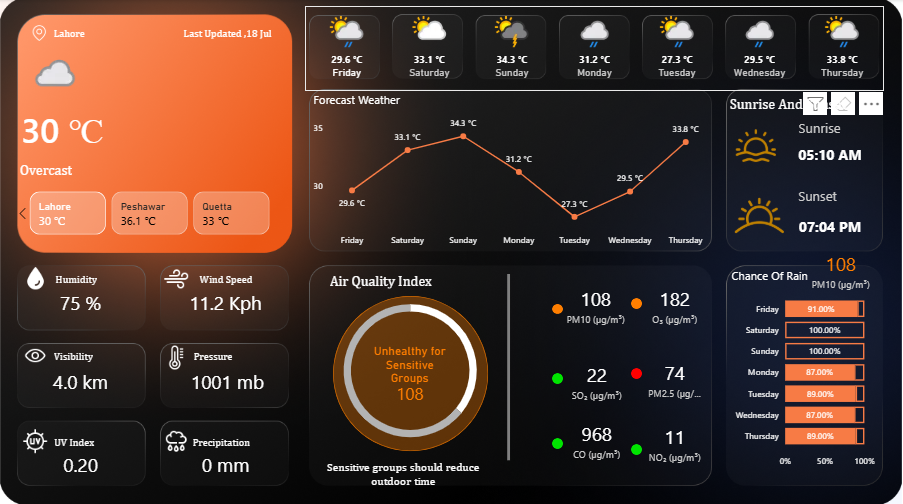

Layout of this report page (visuals, bound fields, positions):
{"tool":"powerbi","page":{"name":"Page 1","canvas":[1280,720],"ordinal":0},"visuals":[{"type":"shape","box":[472.9,421.4,220,220],"z":0},{"type":"advancedSlicerVisual","fields":{"Values":["Location.location.name"]},"box":[18.3,268.3,391.7,71.7],"z":1000},{"type":"shape","box":[27.1,147.1,382.9,68.6],"z":2000},{"type":"shape","box":[25,215,346.7,53.3],"z":3000},{"type":"shape","box":[73,21,111,54],"z":4000},{"type":"shape","box":[199,21,192,54],"z":5000},{"type":"image","box":[41,31,32,34],"z":6000},{"type":"cardVisual","fields":{"Data":["Min(Current.current.condition.icon)"]},"box":[18.3,48.3,110,111.7],"z":7000},{"type":"image","box":[27.8,483.3,45.6,44.4],"z":8000},{"type":"shape","box":[75.6,488.9,80,34.4],"z":9000},{"type":"shape","box":[270,601.1,102.2,53.3],"z":10000},{"type":"shape","box":[273.3,488.9,72.2,33.3],"z":11000},{"type":"shape","box":[282.2,381.1,83.3,31.1],"z":12000},{"type":"shape","box":[74.4,606.7,82.2,42.2],"z":13000},{"type":"shape","box":[77.8,381.1,74.4,31.1],"z":14000},{"type":"image","box":[227.8,373.3,45.6,47.8],"z":15000},{"type":"image","box":[27.8,603.3,45.6,45.6],"z":16000},{"type":"image","box":[30,373.3,44.4,45.6],"z":17000},{"type":"image","box":[227.8,486.7,45.6,44.4],"z":18000},{"type":"image","box":[227.8,604.4,45.6,45.6],"z":19000},{"type":"card","fields":{"Values":["_Measures.Humidity"]},"box":[21.4,397.1,188.6,70],"z":20000},{"type":"card","fields":{"Values":["_Measures.Wind_Speed"]},"box":[227.1,397.1,188.6,70],"z":21000},{"type":"card","fields":{"Values":["_Measures.Visibility"]},"box":[21.4,508.6,188.6,70],"z":22000},{"type":"card","fields":{"Values":["Sum(Current.current.uv)"]},"box":[21.4,627.1,188.6,70],"z":23000},{"type":"card","fields":{"Values":["_Measures.Pressure"]},"box":[230,508.6,188.6,70],"z":24000},{"type":"card","fields":{"Values":["_Measures.Precipitation"]},"box":[227.1,627.1,188.6,70],"z":25000},{"type":"advancedSlicerVisual","fields":{"Values":["Forecast_Day.Day_Name"]},"box":[433.3,10,821.7,120],"z":26000},{"type":"lineChart","title":"Forecast Weather","fields":{"Y":["Sum(Forecast_Day.forecast.forecastday.day.avgtemp_c)"],"Category":["Forecast_Day.Day_Name"]},"box":[440.9,131.8,569.1,228.2],"z":27000},{"type":"shape","box":[1033.3,130,221.7,35],"z":28000},{"type":"shape","box":[1130,200,110,41.7],"z":29000},{"type":"shape","box":[1130,295,116.7,55],"z":30000},{"type":"shape","box":[1130,156.7,93.3,50],"z":31000},{"type":"shape","box":[1130,258.3,96.7,41.7],"z":32000},{"type":"image","box":[1026.7,251.7,103.3,108.3],"z":33000},{"type":"image","box":[1033.3,175,78.3,66.7],"z":34000},{"type":"hundredPercentStackedBarChart","title":"Chance Of Rain","fields":{"Y":["Sum(Forecast_Day.forecast.forecastday.day.daily_chance_of_rain)","Current.Left_Value_RainS"],"Category":["Forecast_Day.Day_Name"]},"box":[1033.3,381.7,213.3,291.7],"z":35000},{"type":"shape","box":[466.7,381.7,221.7,35],"z":36000},{"type":"card","fields":{"Values":["Sum(Current.current.air_quality.o3)"]},"box":[911.4,398.6,92.9,71.4],"z":37000},{"type":"card","fields":{"Values":["Sum(Current.current.air_quality.pm10)"]},"box":[800,398.6,92.9,71.4],"z":38000},{"type":"card","fields":{"Values":["Sum(Current.current.air_quality.pm2_5)"]},"box":[911.4,502.9,92.9,71.4],"z":39000},{"type":"card","fields":{"Values":["Sum(Current.current.air_quality.so2)"]},"box":[800,508.6,95.7,65.7],"z":40000},{"type":"card","fields":{"Values":["Sum(Current.current.air_quality.co)"]},"box":[800,590,95.7,71.4],"z":41000},{"type":"card","fields":{"Values":["Sum(Current.current.air_quality.no2)"]},"box":[911.4,594.3,92.9,71.4],"z":42000},{"type":"shape","box":[784.3,432.9,15.7,14.3],"z":43000},{"type":"shape","box":[784.3,530,15.7,15.7],"z":44000},{"type":"shape","box":[784.3,622.9,15.7,15.7],"z":45000},{"type":"shape","box":[895.7,424.3,15.7,15.7],"z":46000},{"type":"shape","box":[895.7,630,15.7,15.7],"z":47000},{"type":"shape","box":[895.7,522.9,15.7,15.7],"z":48000},{"type":"shape","box":[701.4,390,41.4,264.3],"z":49000},{"type":"card","fields":{"Values":["Sum(Current.current.air_quality.pm10)"]},"box":[517.1,488.6,130,85.7],"z":50000},{"type":"donutChart","fields":{"Y":["Sum(Current.current.air_quality.pm10)","_Measures.Left_Value_PM10"]},"box":[457.1,404.3,250,245.7],"z":51000},{"type":"card","fields":{"Values":["Sum(Current.current.air_quality.pm10)"]},"box":[1147.1,348.6,92.9,71.4],"z":52000},{"type":"shape","box":[432.9,648.6,281.4,48.6],"z":52001}]}

Visuals, with their boxes in screenshot pixels (x1, y1, x2, y2), scaled from the page's 1280x720 canvas onto the 903x504 screenshot:
shape: (334,295,489,449)
advancedSlicerVisual - Location.location.name: (13,188,289,238)
shape: (19,103,289,151)
shape: (18,150,262,188)
shape: (51,15,130,52)
shape: (140,15,276,52)
image: (29,22,51,46)
cardVisual - Min(Current.current.condition.icon): (13,34,91,112)
image: (20,338,52,369)
shape: (53,342,110,366)
shape: (190,421,263,458)
shape: (193,342,244,366)
shape: (199,267,258,289)
shape: (52,425,110,454)
shape: (55,267,107,289)
image: (161,261,193,295)
image: (20,422,52,454)
image: (21,261,52,293)
image: (161,341,193,372)
image: (161,423,193,455)
card - _Measures.Humidity: (15,278,148,327)
card - _Measures.Wind_Speed: (160,278,293,327)
card - _Measures.Visibility: (15,356,148,405)
card - Sum(Current.current.uv): (15,439,148,488)
card - _Measures.Pressure: (162,356,295,405)
card - _Measures.Precipitation: (160,439,293,488)
advancedSlicerVisual - Forecast_Day.Day_Name: (306,7,885,91)
"Forecast Weather" lineChart: (311,92,713,252)
shape: (729,91,885,115)
shape: (797,140,875,169)
shape: (797,206,880,245)
shape: (797,110,863,145)
shape: (797,181,865,210)
image: (724,176,797,252)
image: (729,122,784,169)
"Chance Of Rain" hundredPercentStackedBarChart: (729,267,879,471)
shape: (329,267,486,292)
card - Sum(Current.current.air_quality.o3): (643,279,709,329)
card - Sum(Current.current.air_quality.pm10): (564,279,630,329)
card - Sum(Current.current.air_quality.pm2_5): (643,352,709,402)
card - Sum(Current.current.air_quality.so2): (564,356,632,402)
card - Sum(Current.current.air_quality.co): (564,413,632,463)
card - Sum(Current.current.air_quality.no2): (643,416,709,466)
shape: (553,303,564,313)
shape: (553,371,564,382)
shape: (553,436,564,447)
shape: (632,297,643,308)
shape: (632,441,643,452)
shape: (632,366,643,377)
shape: (495,273,524,458)
card - Sum(Current.current.air_quality.pm10): (365,342,457,402)
donutChart - Sum(Current.current.air_quality.pm10) x _Measures.Left_Value_PM10: (322,283,499,455)
card - Sum(Current.current.air_quality.pm10): (809,244,875,294)
shape: (305,454,504,488)
